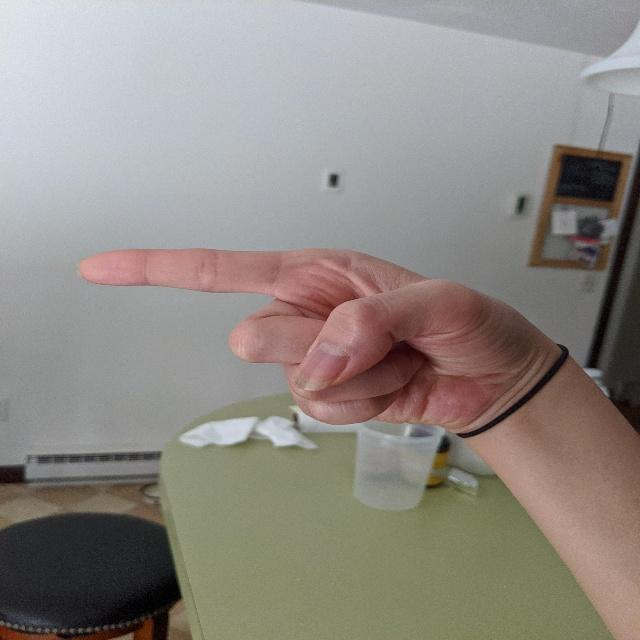G: (71, 241, 514, 442)
